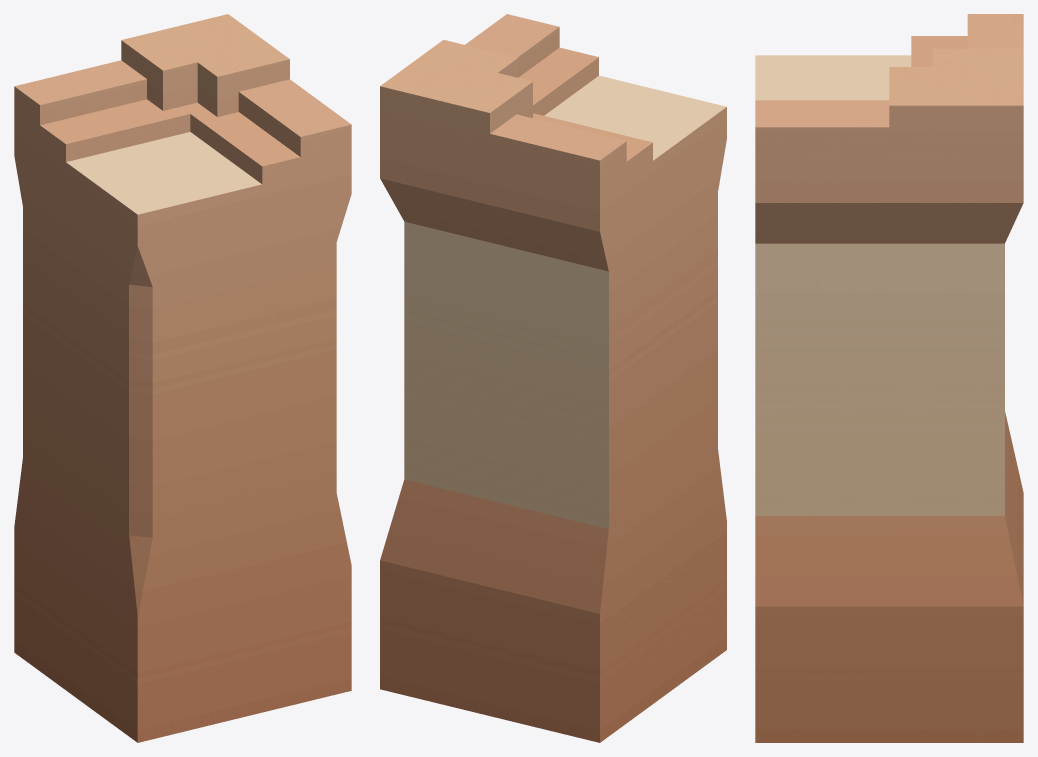
Rendered from wall-narrow-corner.glb.
3 views of the same model, side by side, from view 1: azimuth 30°, elevation 25°; view 2: azimuth 150°, elevation 25°; view 3: azimuth 270°, elevation 25° (orthographic). The views are drawn at different scales.
Parts seen in each view (by area): view 1: wall-narrow-corner; view 2: wall-narrow-corner; view 3: wall-narrow-corner.
Boxes of the visible parts, x1,y1,x2,y2 form: wall-narrow-corner: (14, 14, 351, 742); wall-narrow-corner: (380, 14, 726, 742); wall-narrow-corner: (755, 14, 1023, 742).
Bounding box in the file's own units: 0.5 × 1.31 × 0.5.
1 material, 1 textured.
